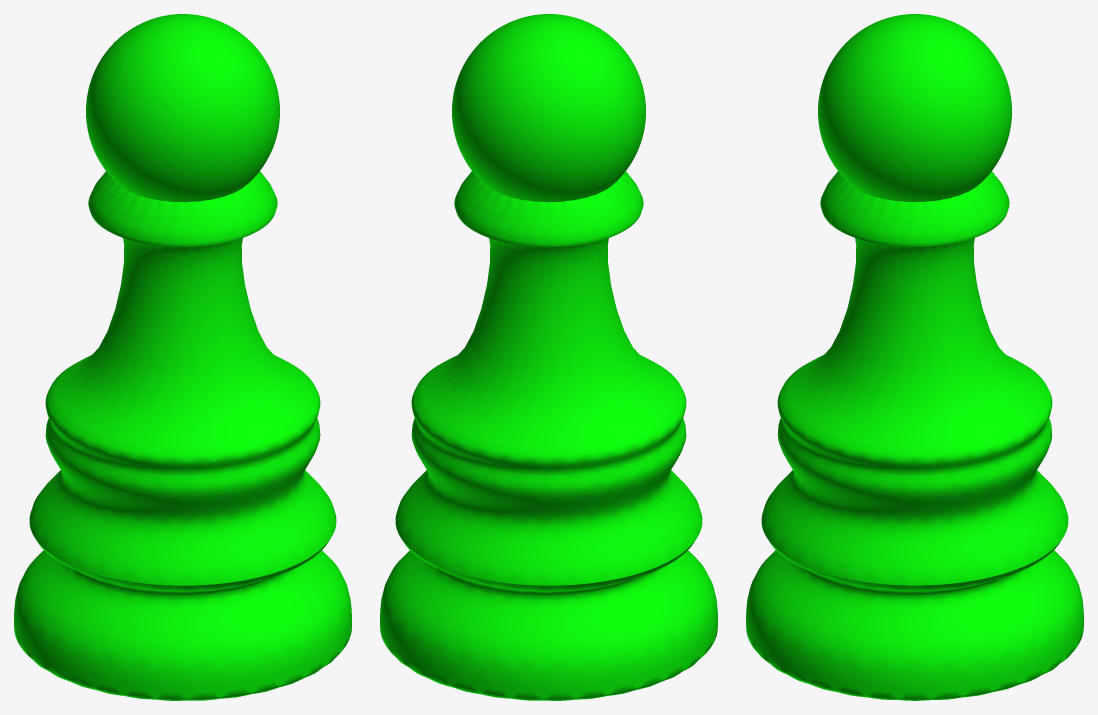
Rendered from green_pawn.glb.
3 views of the same model, side by side, from view 1: azimuth 30°, elevation 25°; view 2: azimuth 150°, elevation 25°; view 3: azimuth 270°, elevation 25° (orthographic).
Parts seen in each view (by area): view 1: Sketchfab Model; view 2: Sketchfab Model; view 3: Sketchfab Model.
Boxes of the visible parts, x1,y1,x2,y2 form: Sketchfab Model: [14, 14, 351, 700]; Sketchfab Model: [380, 14, 717, 700]; Sketchfab Model: [746, 14, 1083, 700].
Size of the model in its own units: 0.7867 by 1.58 by 0.7867.
